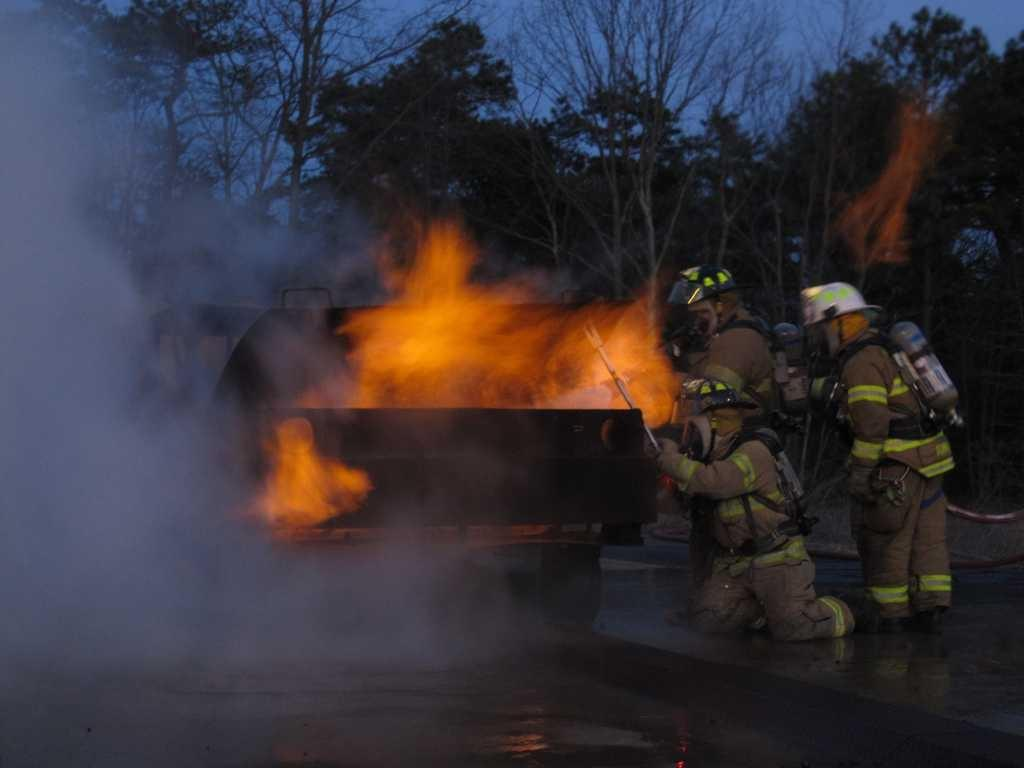fire: (386, 308, 646, 402), (278, 418, 328, 510)
